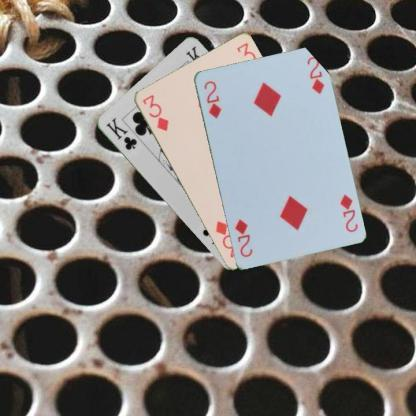2d: (201, 78, 223, 120), (337, 192, 359, 234)
3d: (139, 92, 170, 132)
Kc: (103, 114, 138, 152)
